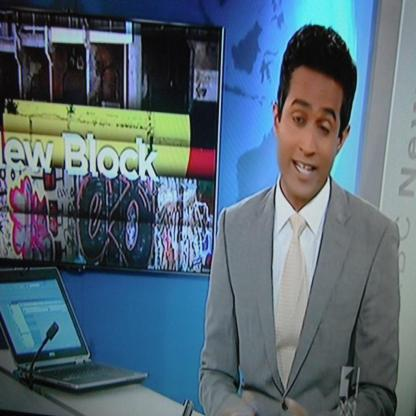board: (0, 262, 149, 392)
